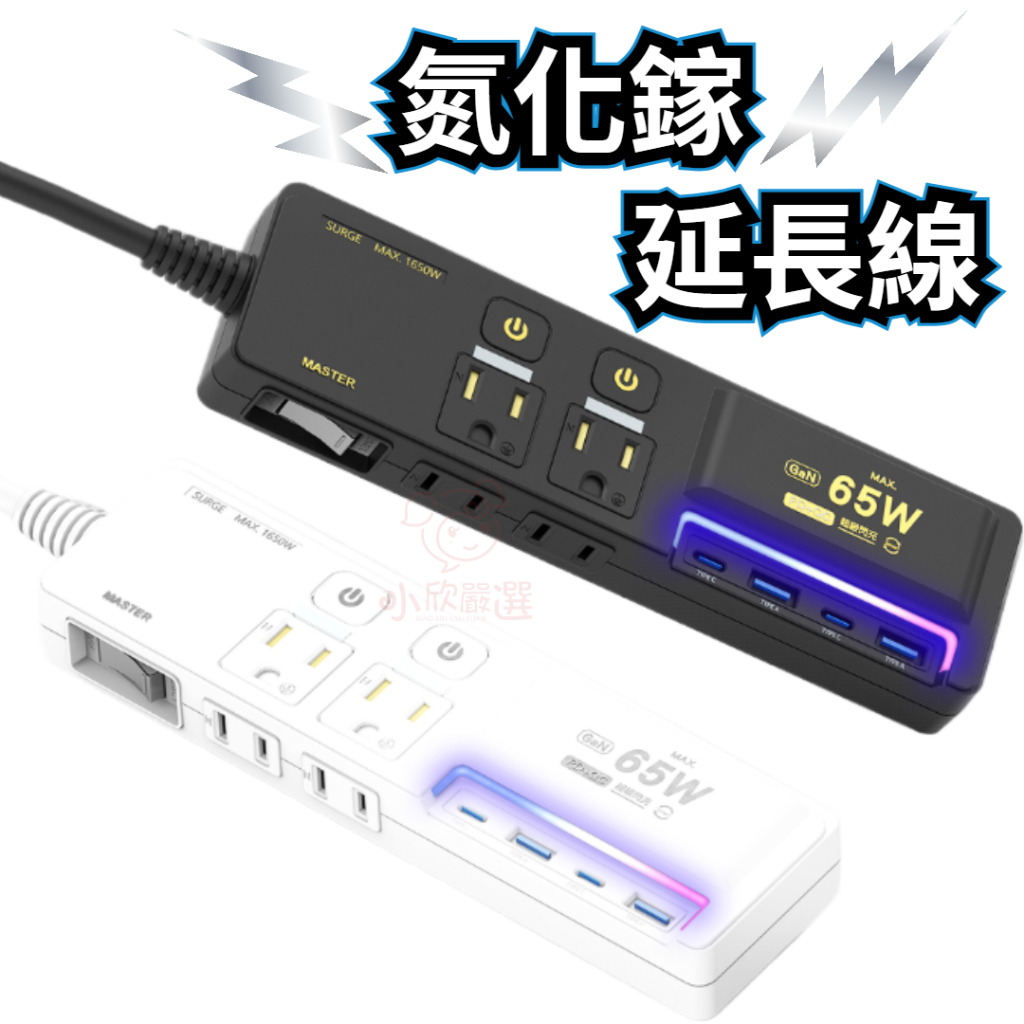socket: (136, 181, 1023, 737), (12, 459, 846, 1020)
